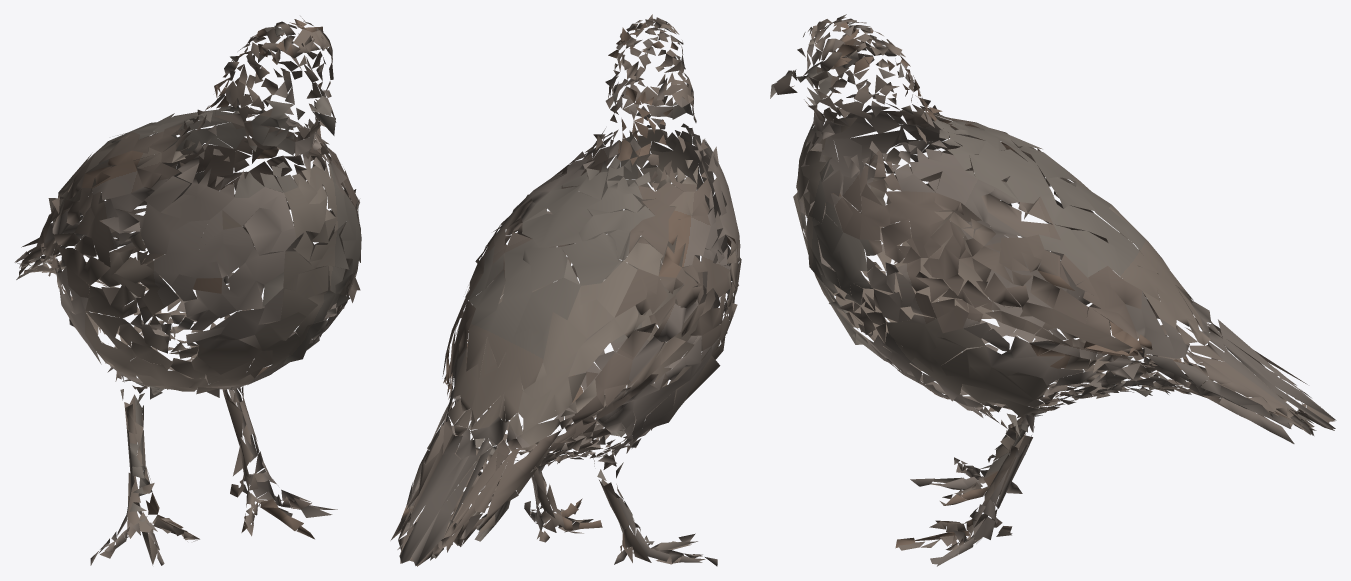
The model's file is quail.glb.
3 views of the same model, side by side, from view 1: azimuth 30°, elevation 25°; view 2: azimuth 150°, elevation 25°; view 3: azimuth 270°, elevation 25° (orthographic). The views are drawn at different scales.
Visible parts, largest first — view 1: LO.001; view 2: LO.001; view 3: LO.001.
Boxes of the visible parts, box(x1,y1,x2,y2) form: LO.001: box(14, 16, 361, 565); LO.001: box(390, 14, 741, 566); LO.001: box(770, 14, 1336, 566).
Bounding box in the file's own units: 0.9338 × 1.9 × 1.92.
Materials: 1 (1 with a texture image).
